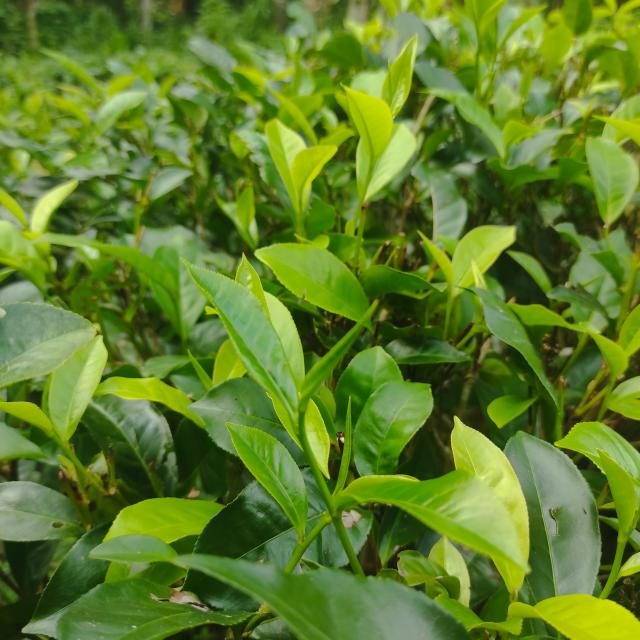unopened_leaf: (294, 293, 382, 416), (329, 388, 360, 514), (180, 344, 218, 391), (382, 54, 398, 106)
